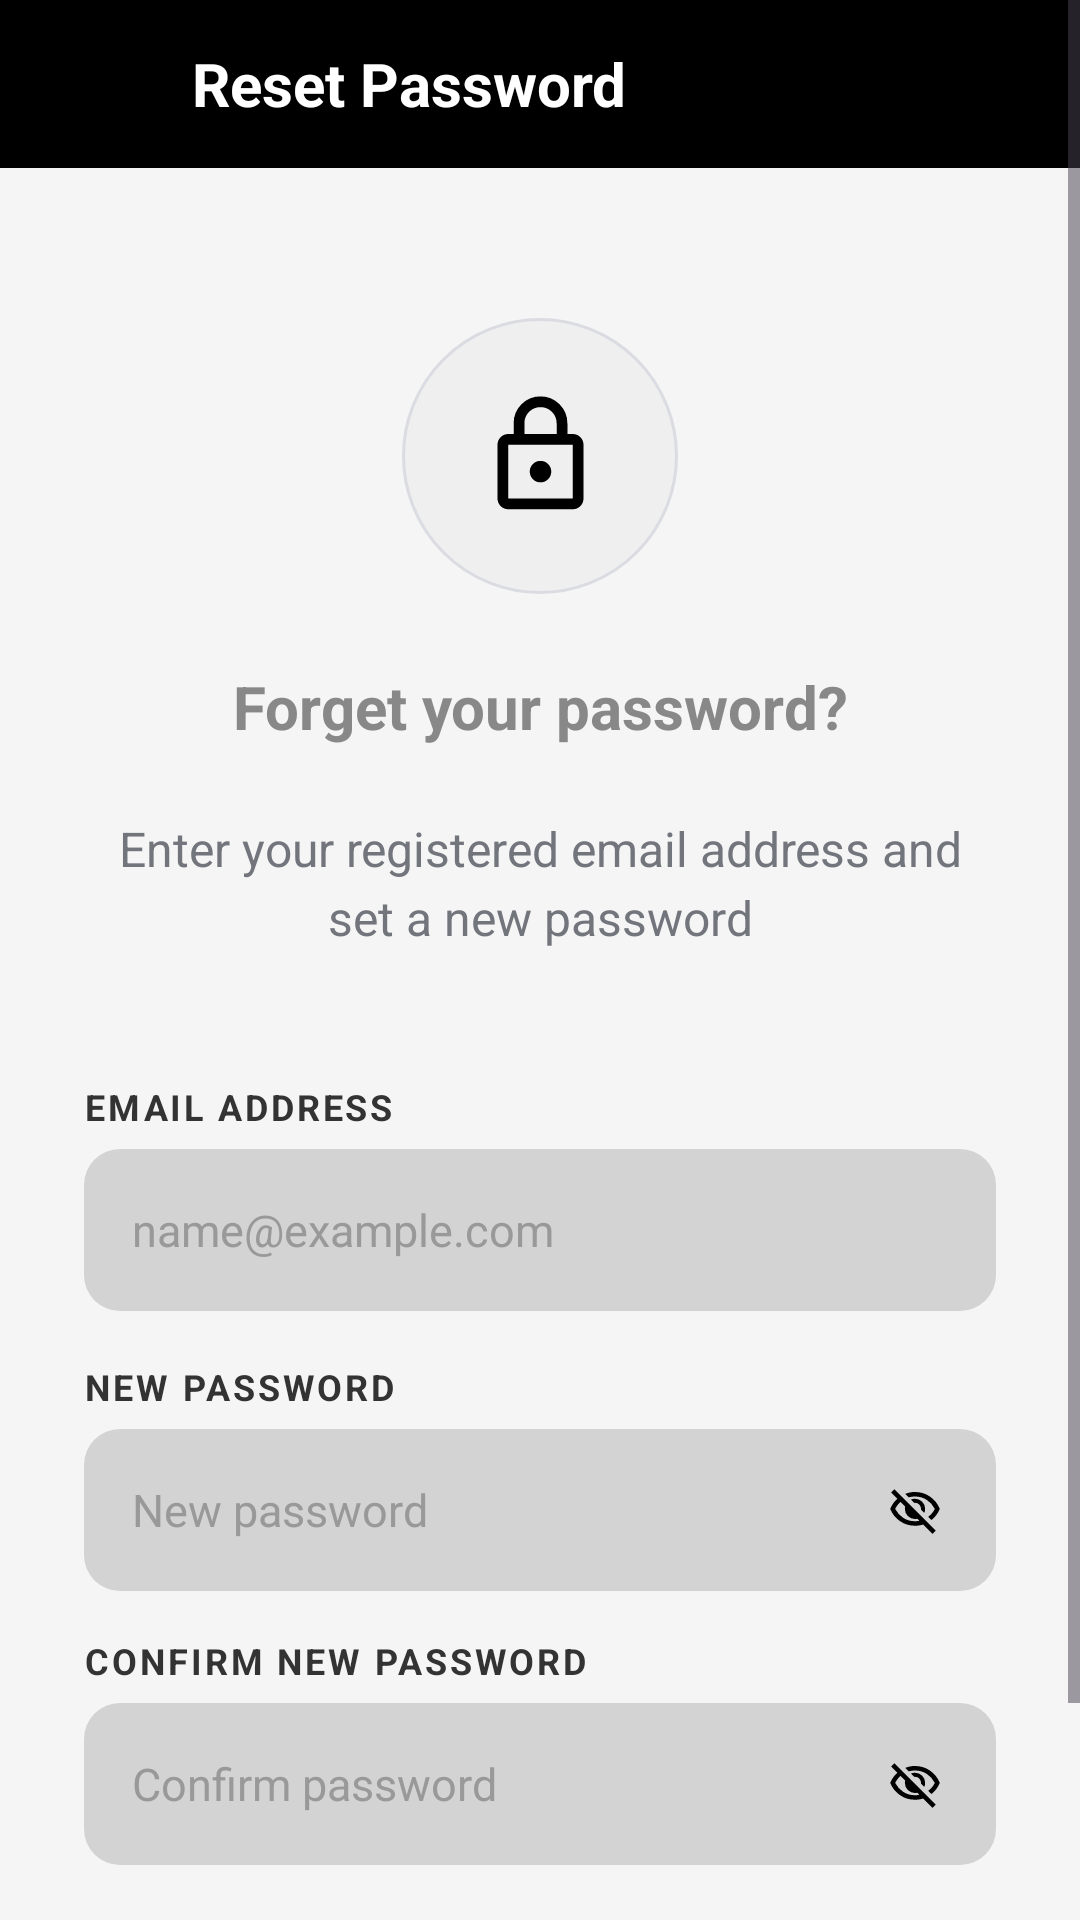

Locate icon controls on the screen. Image size 1080*1920, boxes as (x1, y1, x2, y2).
lock: (497, 396, 584, 510)
Toggle Password: (890, 1489, 940, 1534), (890, 1763, 940, 1808)
